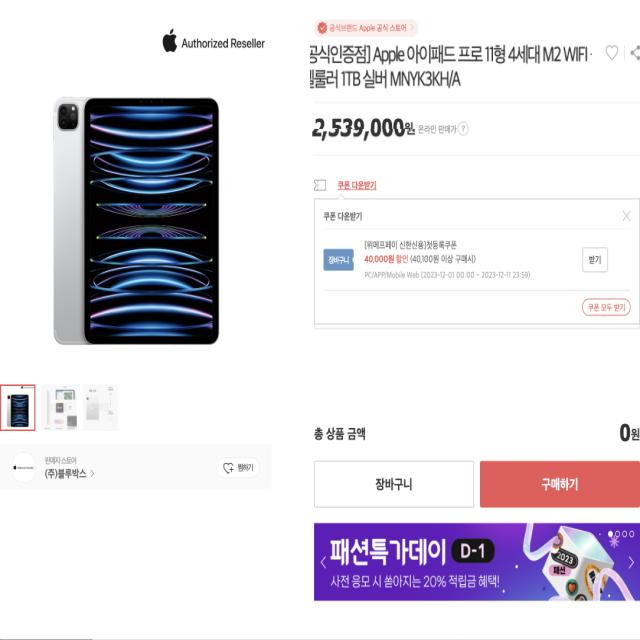product_name: (311, 42, 592, 90)
product_original_price: (313, 129, 417, 155)
